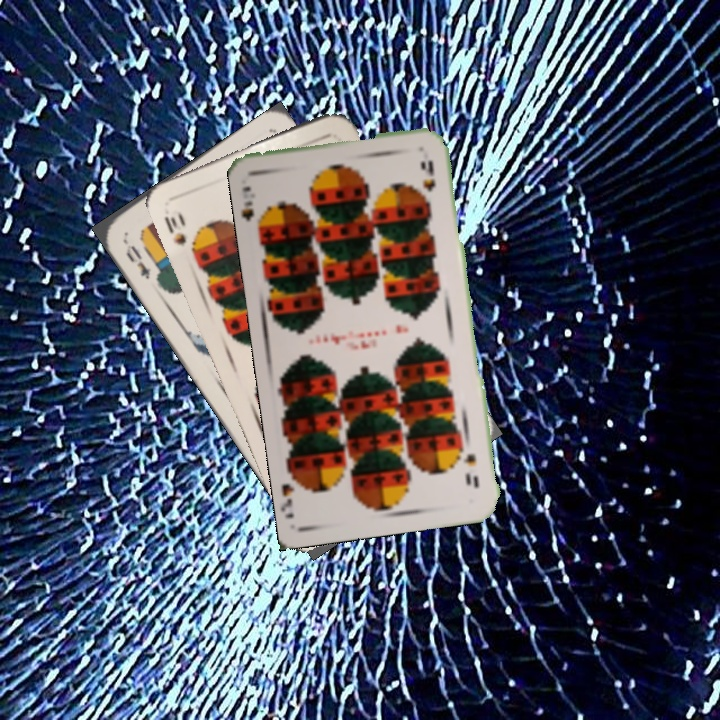EO: (118, 235, 154, 282)
S10: (160, 206, 189, 249)
S9: (239, 182, 269, 234), (462, 450, 481, 491)
